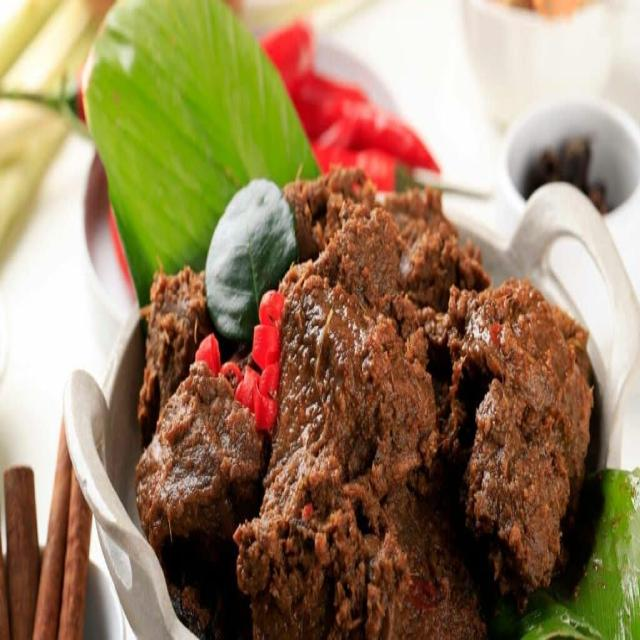Rendang: (133, 165, 601, 640)
